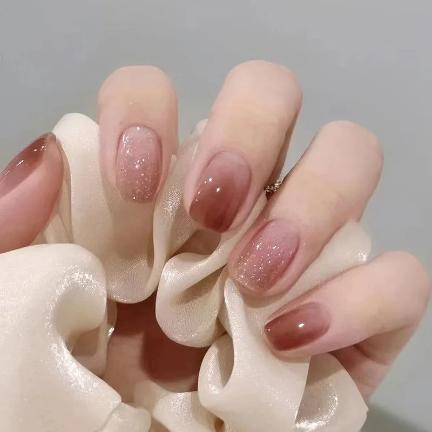Nail: (232, 218, 300, 293), (189, 151, 251, 233), (115, 124, 162, 203), (0, 132, 55, 198), (264, 302, 333, 351)
